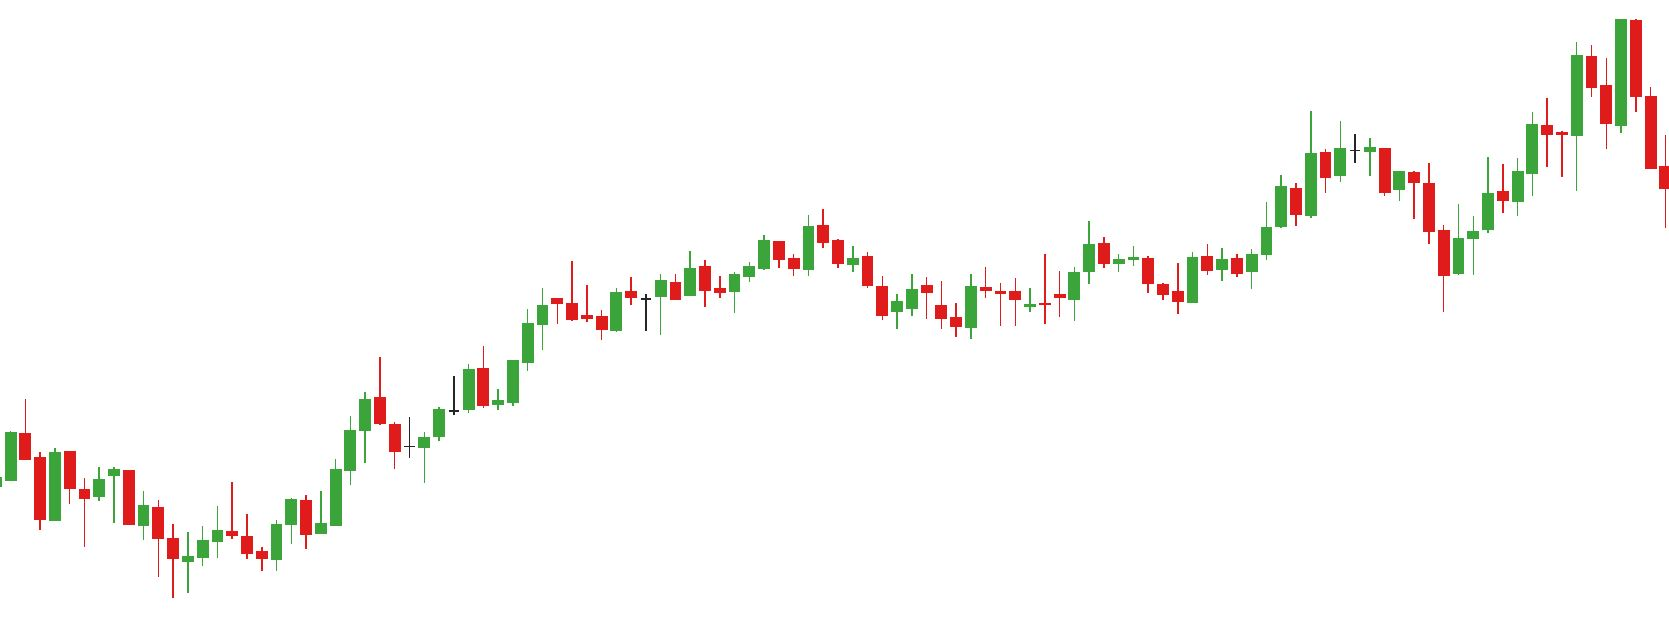buy: (1242, 195, 1465, 309)
